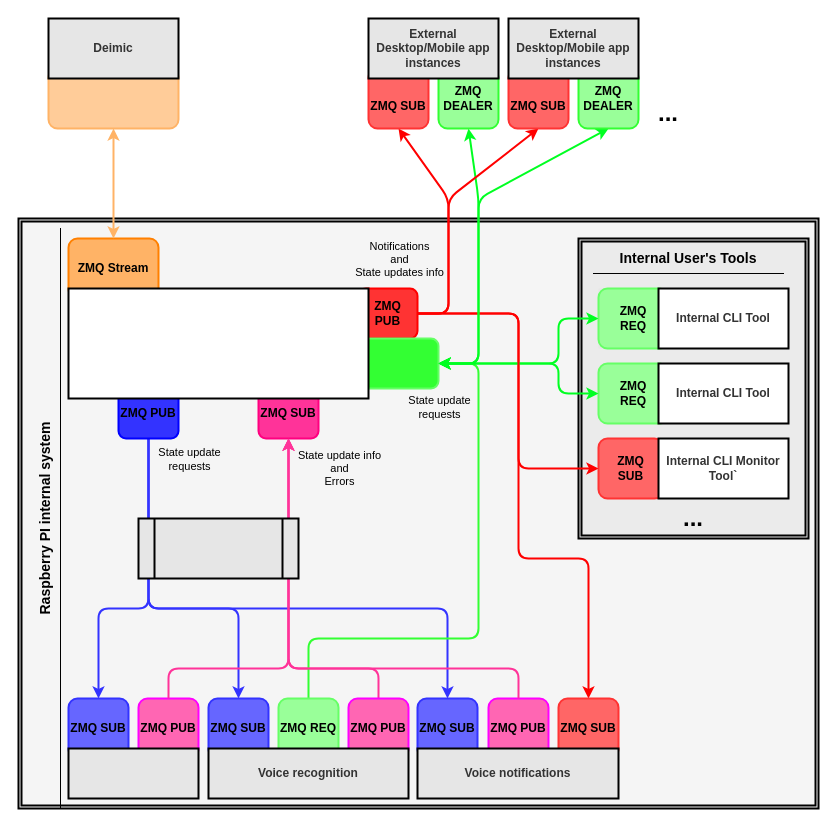
This 836x826 diagram has some shape labels left out. The centre of each missing label's shape, as x and y in pixels:
"Communication bridge/translator/proxy" goes at point 218,343.
"Led driver" goes at point 133,773.
"Raw TCP" goes at point 113,98.
"Requests | Reply Requests are sent as update requests and replies as update info" goes at point 218,548.
"ZMQ ROUTER" goes at point 398,363.
